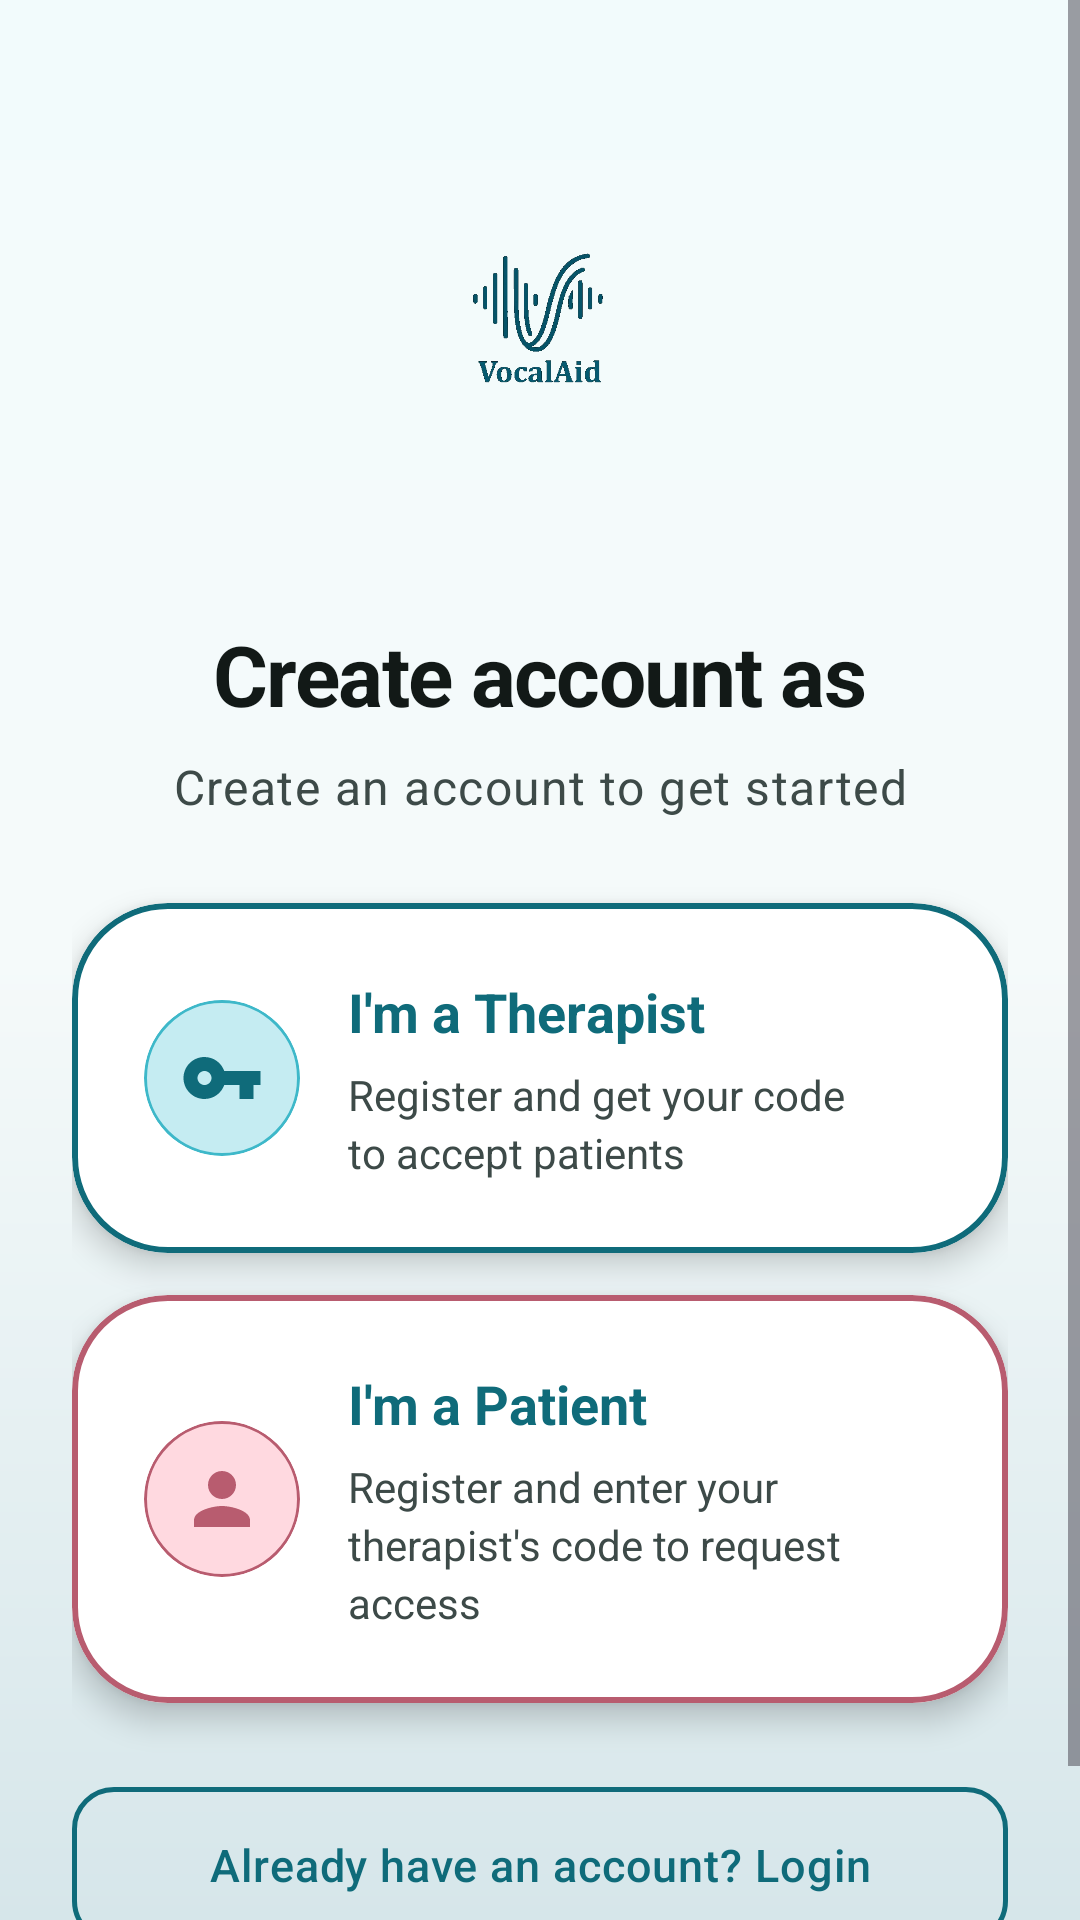

Icon bounding boxes for this 1080px×1920px phone screenshot, format (left=x1, top=y1, right=x2, bottom=y2):
key connect: (left=183, top=1057, right=261, bottom=1099)
